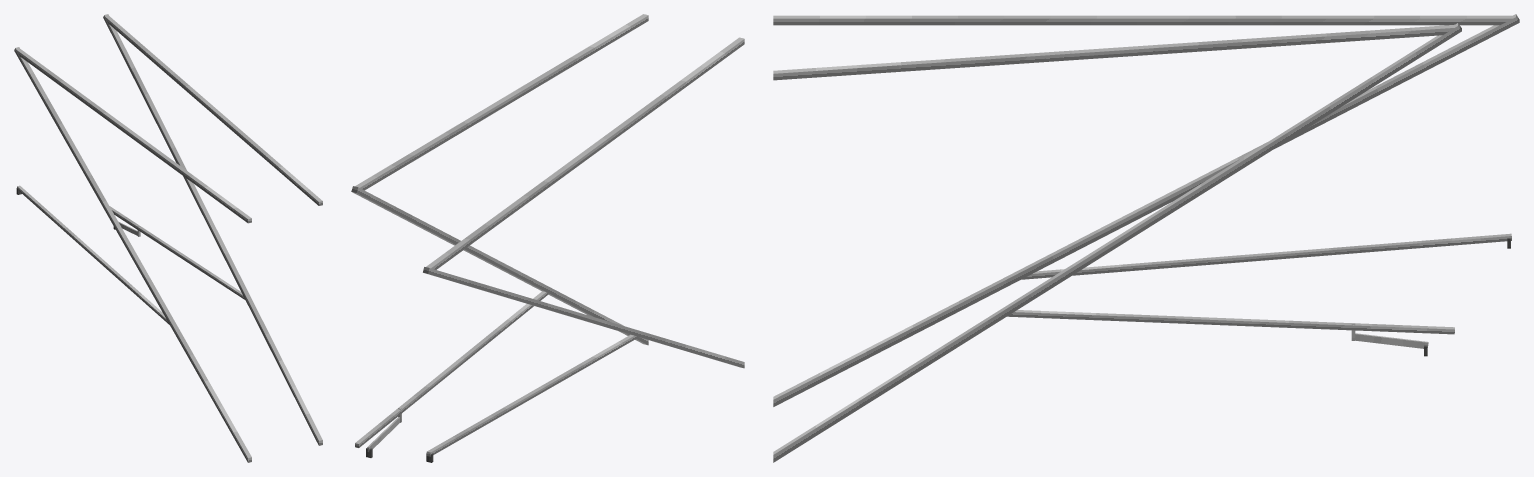
File: cantilever_inner_4px.obj
The picture shows the model from 3 angles, left to right: view 1: azimuth 30°, elevation 25°; view 2: azimuth 150°, elevation 25°; view 3: azimuth 270°, elevation 25°; orthographic projection. The views are drawn at different scales.
Parts seen in each view (by area): view 1: 5c08122e-f806-4236-9eea-3ef053794a9c, be918db5-139f-45b3-a821-c4f98422945b, 6a7941d9-cd65-43a5-83b2-23ab837a5f3a, 2bc03738-8b98-4401-86f2-bd85a309deef, e60ddbf9-c95d-4ace-8898-56e92bb3f444, 01f30ea2-7288-4f5f-b057-4d22c57ef190; view 2: 6a7941d9-cd65-43a5-83b2-23ab837a5f3a, 2bc03738-8b98-4401-86f2-bd85a309deef, 5c08122e-f806-4236-9eea-3ef053794a9c, be918db5-139f-45b3-a821-c4f98422945b, e60ddbf9-c95d-4ace-8898-56e92bb3f444, 01f30ea2-7288-4f5f-b057-4d22c57ef190; view 3: 6a7941d9-cd65-43a5-83b2-23ab837a5f3a, be918db5-139f-45b3-a821-c4f98422945b, 5c08122e-f806-4236-9eea-3ef053794a9c, 2bc03738-8b98-4401-86f2-bd85a309deef, e60ddbf9-c95d-4ace-8898-56e92bb3f444, 01f30ea2-7288-4f5f-b057-4d22c57ef190.
Boxes of the visible parts, left/top/right/bottom form: 5c08122e-f806-4236-9eea-3ef053794a9c: left=14, top=47, right=251, bottom=462; be918db5-139f-45b3-a821-c4f98422945b: left=103, top=14, right=322, bottom=445; 6a7941d9-cd65-43a5-83b2-23ab837a5f3a: left=16, top=49, right=251, bottom=223; 2bc03738-8b98-4401-86f2-bd85a309deef: left=105, top=16, right=322, bottom=205; e60ddbf9-c95d-4ace-8898-56e92bb3f444: left=17, top=185, right=169, bottom=324; 01f30ea2-7288-4f5f-b057-4d22c57ef190: left=109, top=206, right=244, bottom=299; 6a7941d9-cd65-43a5-83b2-23ab837a5f3a: left=426, top=37, right=744, bottom=269; 2bc03738-8b98-4401-86f2-bd85a309deef: left=355, top=14, right=648, bottom=190; 5c08122e-f806-4236-9eea-3ef053794a9c: left=423, top=267, right=744, bottom=368; be918db5-139f-45b3-a821-c4f98422945b: left=351, top=186, right=648, bottom=345; e60ddbf9-c95d-4ace-8898-56e92bb3f444: left=426, top=334, right=638, bottom=456; 01f30ea2-7288-4f5f-b057-4d22c57ef190: left=355, top=291, right=548, bottom=447; 6a7941d9-cd65-43a5-83b2-23ab837a5f3a: left=773, top=15, right=1512, bottom=25; be918db5-139f-45b3-a821-c4f98422945b: left=773, top=23, right=1461, bottom=462; 5c08122e-f806-4236-9eea-3ef053794a9c: left=773, top=14, right=1519, bottom=406; 2bc03738-8b98-4401-86f2-bd85a309deef: left=773, top=24, right=1454, bottom=80; e60ddbf9-c95d-4ace-8898-56e92bb3f444: left=1022, top=233, right=1511, bottom=279; 01f30ea2-7288-4f5f-b057-4d22c57ef190: left=1007, top=310, right=1454, bottom=334.
Bounding box in the file's own units: 1.19 × 4.16 × 6.43.
